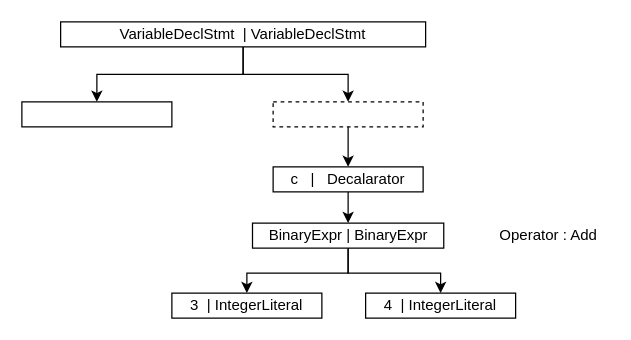
Some shapes in this 631 by 340 pixel diagram are drawn without their labels. The shapes that lost their labels are listed below. From the top down, each one's centre as x and y in pixels, then its label:
(96,114): int | TypeRef
(347,114): Decalarators
